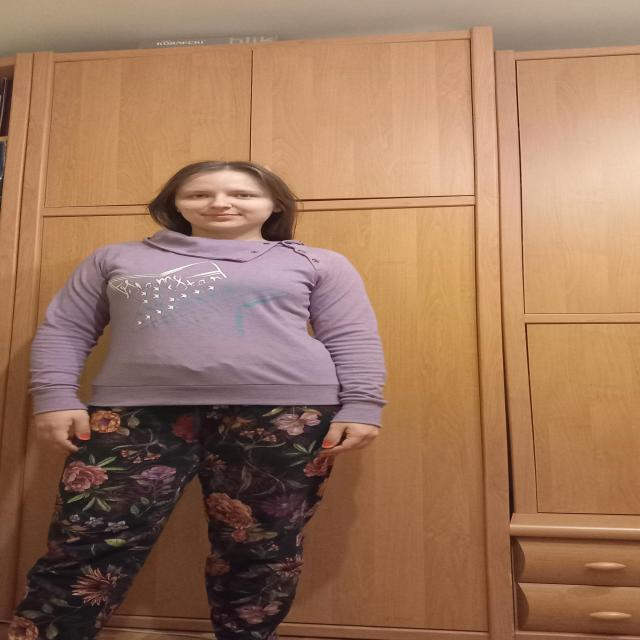pants: (7, 404, 344, 640)
sweater: (26, 228, 388, 428)
